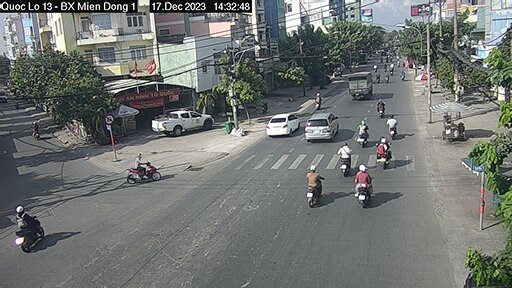car: (153, 110, 211, 136), (268, 113, 301, 137), (305, 116, 338, 139)
motorbike: (9, 203, 47, 255), (125, 155, 164, 187), (306, 164, 323, 209), (355, 163, 370, 205), (337, 143, 354, 178), (378, 136, 394, 171), (358, 117, 373, 146), (387, 117, 399, 138)
truck: (345, 73, 375, 100)
